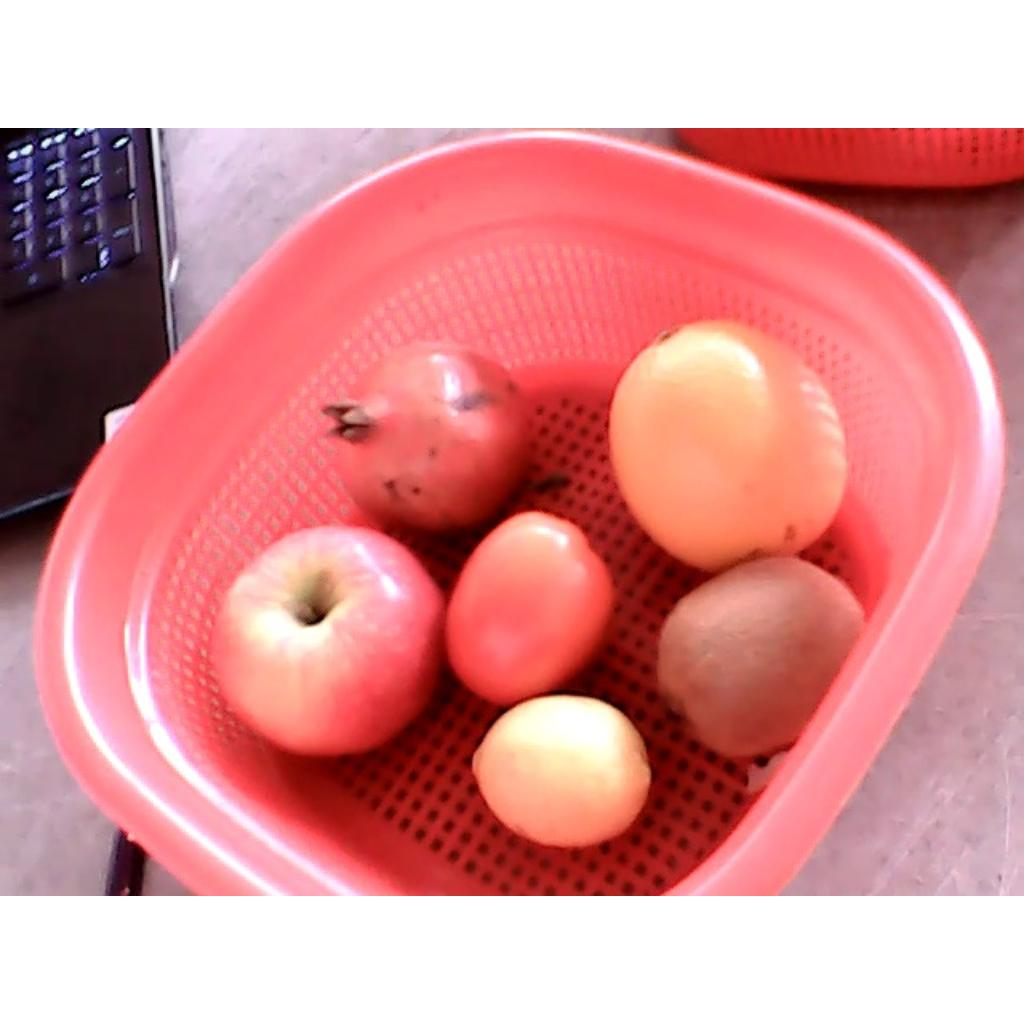apple: (209, 523, 445, 762), (652, 548, 863, 759)
lemon: (472, 695, 652, 849)
orange: (607, 319, 851, 573)
pomegranate: (325, 338, 527, 532)
tomato: (446, 511, 617, 708)
